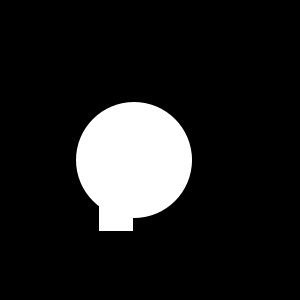circle: (99, 197, 133, 231)
rectangle: (76, 102, 192, 218)
